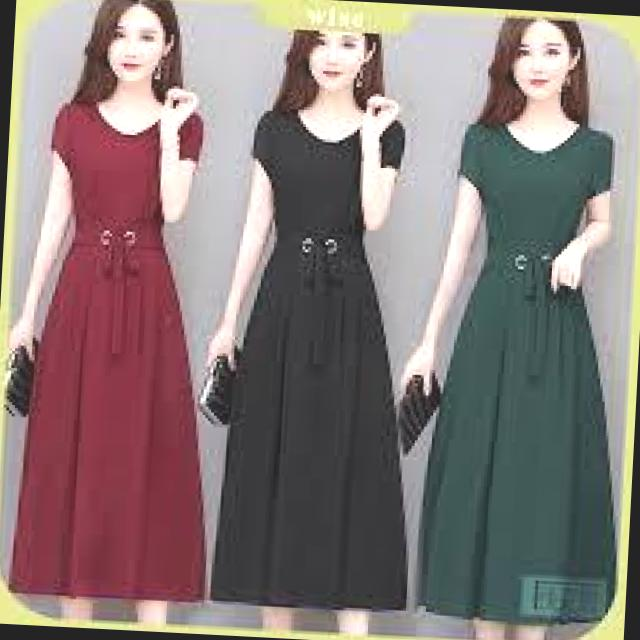dress: (198, 92, 448, 638), (0, 86, 247, 615), (401, 99, 640, 640)
